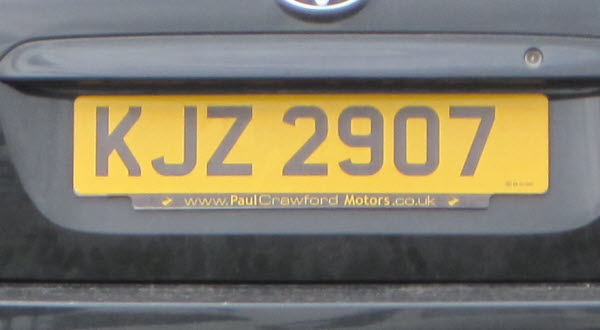license_plate: (72, 94, 548, 192)
